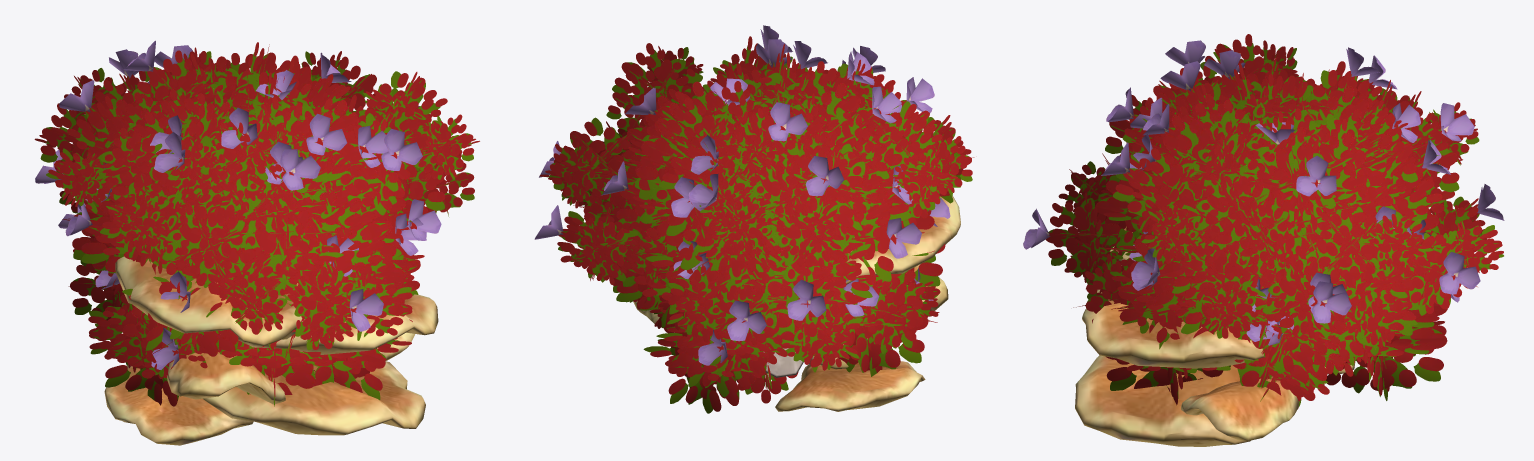
File: MegaBushes.glb
3 renders of one model, left to right at view 1: azimuth 30°, elevation 25°; view 2: azimuth 150°, elevation 25°; view 3: azimuth 270°, elevation 25°, orthographic. The views are drawn at different scales.
Parts seen in each view (by area): view 1: Bush_Common, Bush_Common_Flowers, Mushroom_Laetiporus; view 2: Bush_Common, Bush_Common_Flowers, Mushroom_Laetiporus, Mushroom_Common; view 3: Bush_Common, Bush_Common_Flowers, Mushroom_Laetiporus.
Part boxes in pixels (x1,y1,x2,y2): Bush_Common: (34,42,479,406); Bush_Common_Flowers: (35,40,474,406); Mushroom_Laetiporus: (104,256,438,445); Bush_Common: (539,36,974,411); Bush_Common_Flowers: (534,25,972,413); Mushroom_Laetiporus: (633,196,960,411); Mushroom_Common: (763,348,812,377); Bush_Common: (1045,34,1503,408); Bush_Common_Flowers: (1023,40,1504,406); Mushroom_Laetiporus: (1075,226,1355,446).
Bounding box in the file's own units: 1.91 × 1.58 × 1.97.
4 materials, 4 textured.
